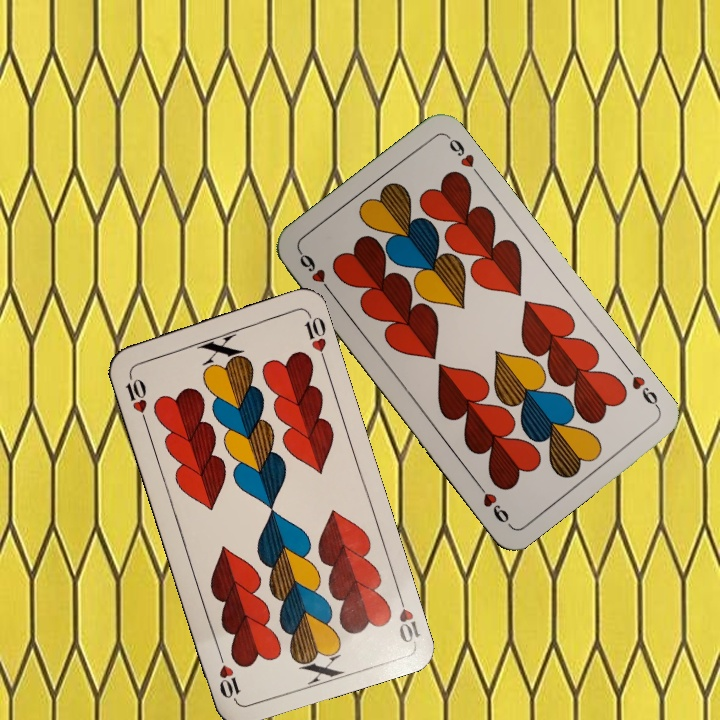H10: (392, 587, 422, 646), (122, 368, 150, 426)
H9: (621, 362, 663, 412), (295, 247, 336, 298)
